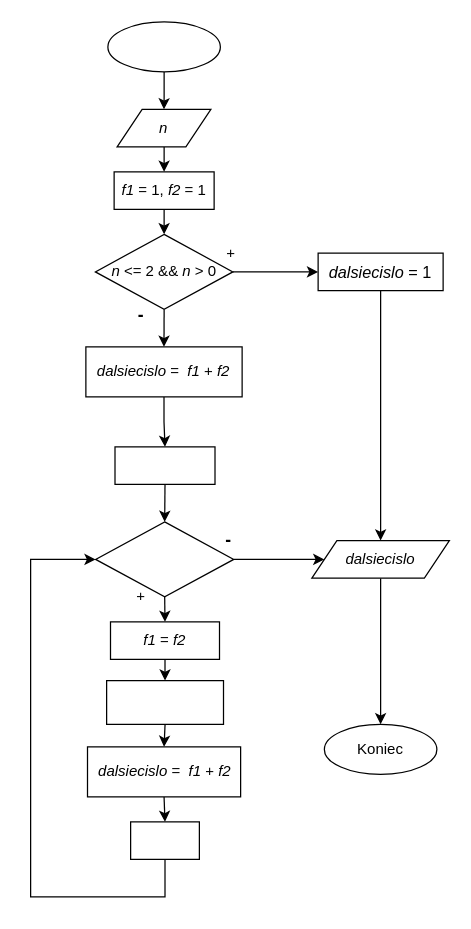
The diagram is 471 pixels wide and 929 high, and some of its shapes have lost their labels. The shapes that lost their labels are listed below. From the top down, each one's box as (x1, y1, x2, y2) in pixels, then its label:
(107, 21, 220, 72): fibonacci
(114, 446, 215, 484): i = 3
(94, 521, 234, 597): i < n
(105, 679, 224, 724): f2 = dalsiecislo
(129, 821, 199, 859): i ++
